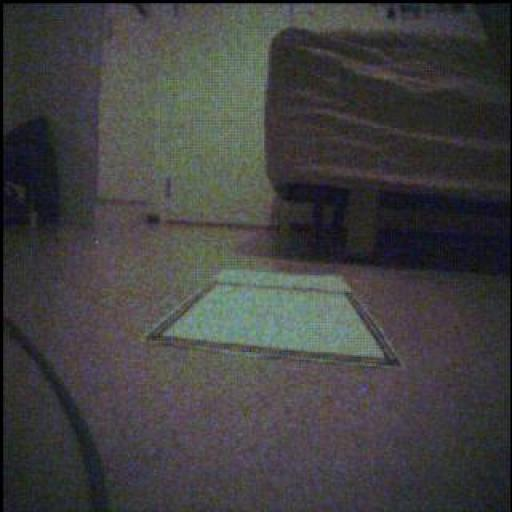pad: (149, 272, 400, 368)
